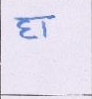aa_matra: (41, 21, 46, 36)
